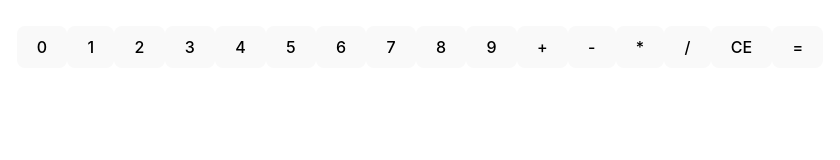
Test case: Calculator Acceptance › user can multiply two numbers together and see the result
The image size is (840, 160).
Click the button "2" at [139, 47], box [114,26,164,68]
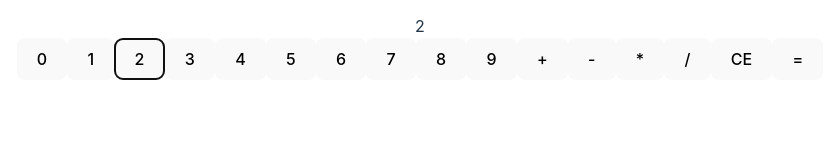
Click the button "0" at [42, 59], box [17,38,67,80]
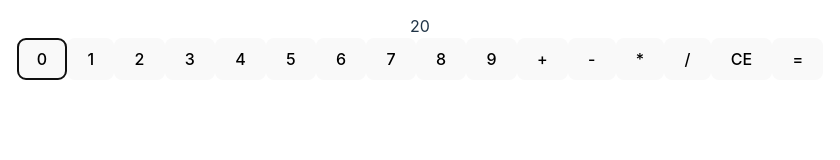
Click the button "*" at [640, 59], box [616,38,664,80]
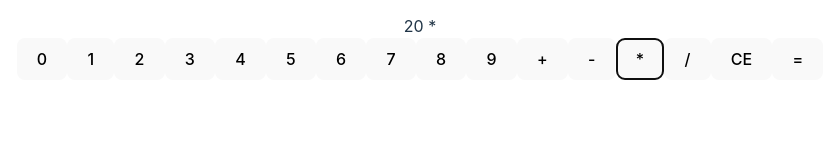
Click the button "4" at [240, 59], box [215,38,266,80]
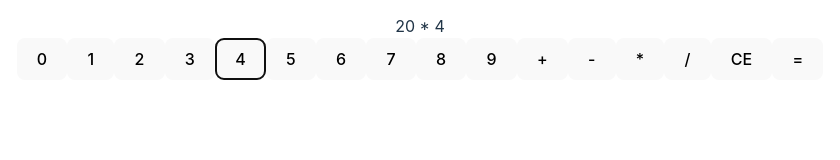
Click the button "5" at [291, 59], box [266,38,316,80]
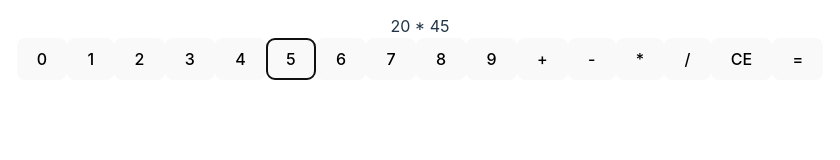
Click the button "=" at [798, 59], box [772,38,823,80]
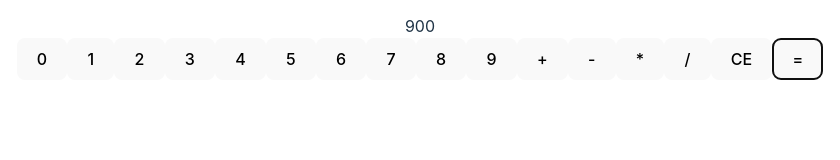
Expected: the field reads "900", [405,16,435,36]
